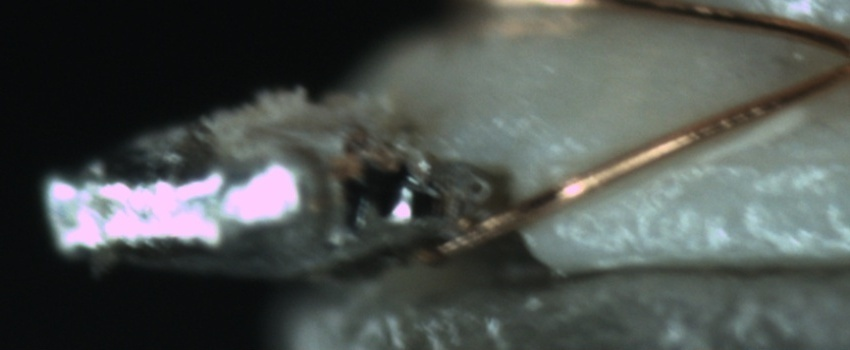CL: (830, 32, 850, 82)
DL: (636, 126, 850, 209)
